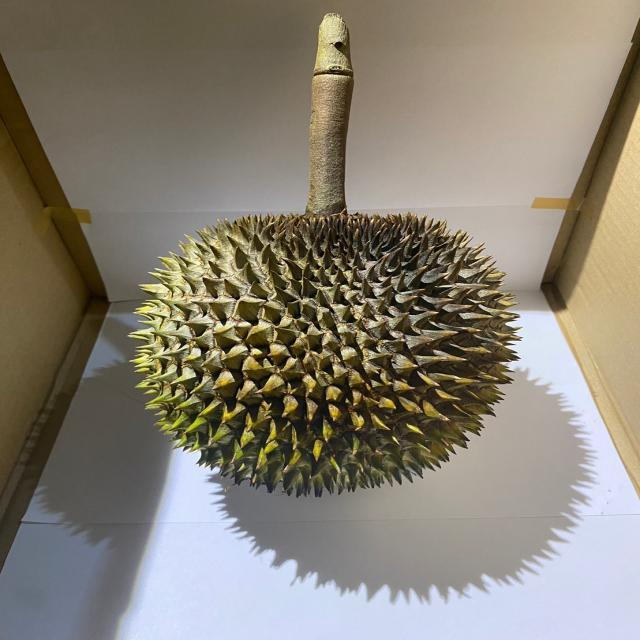immature: (125, 209, 525, 500)
